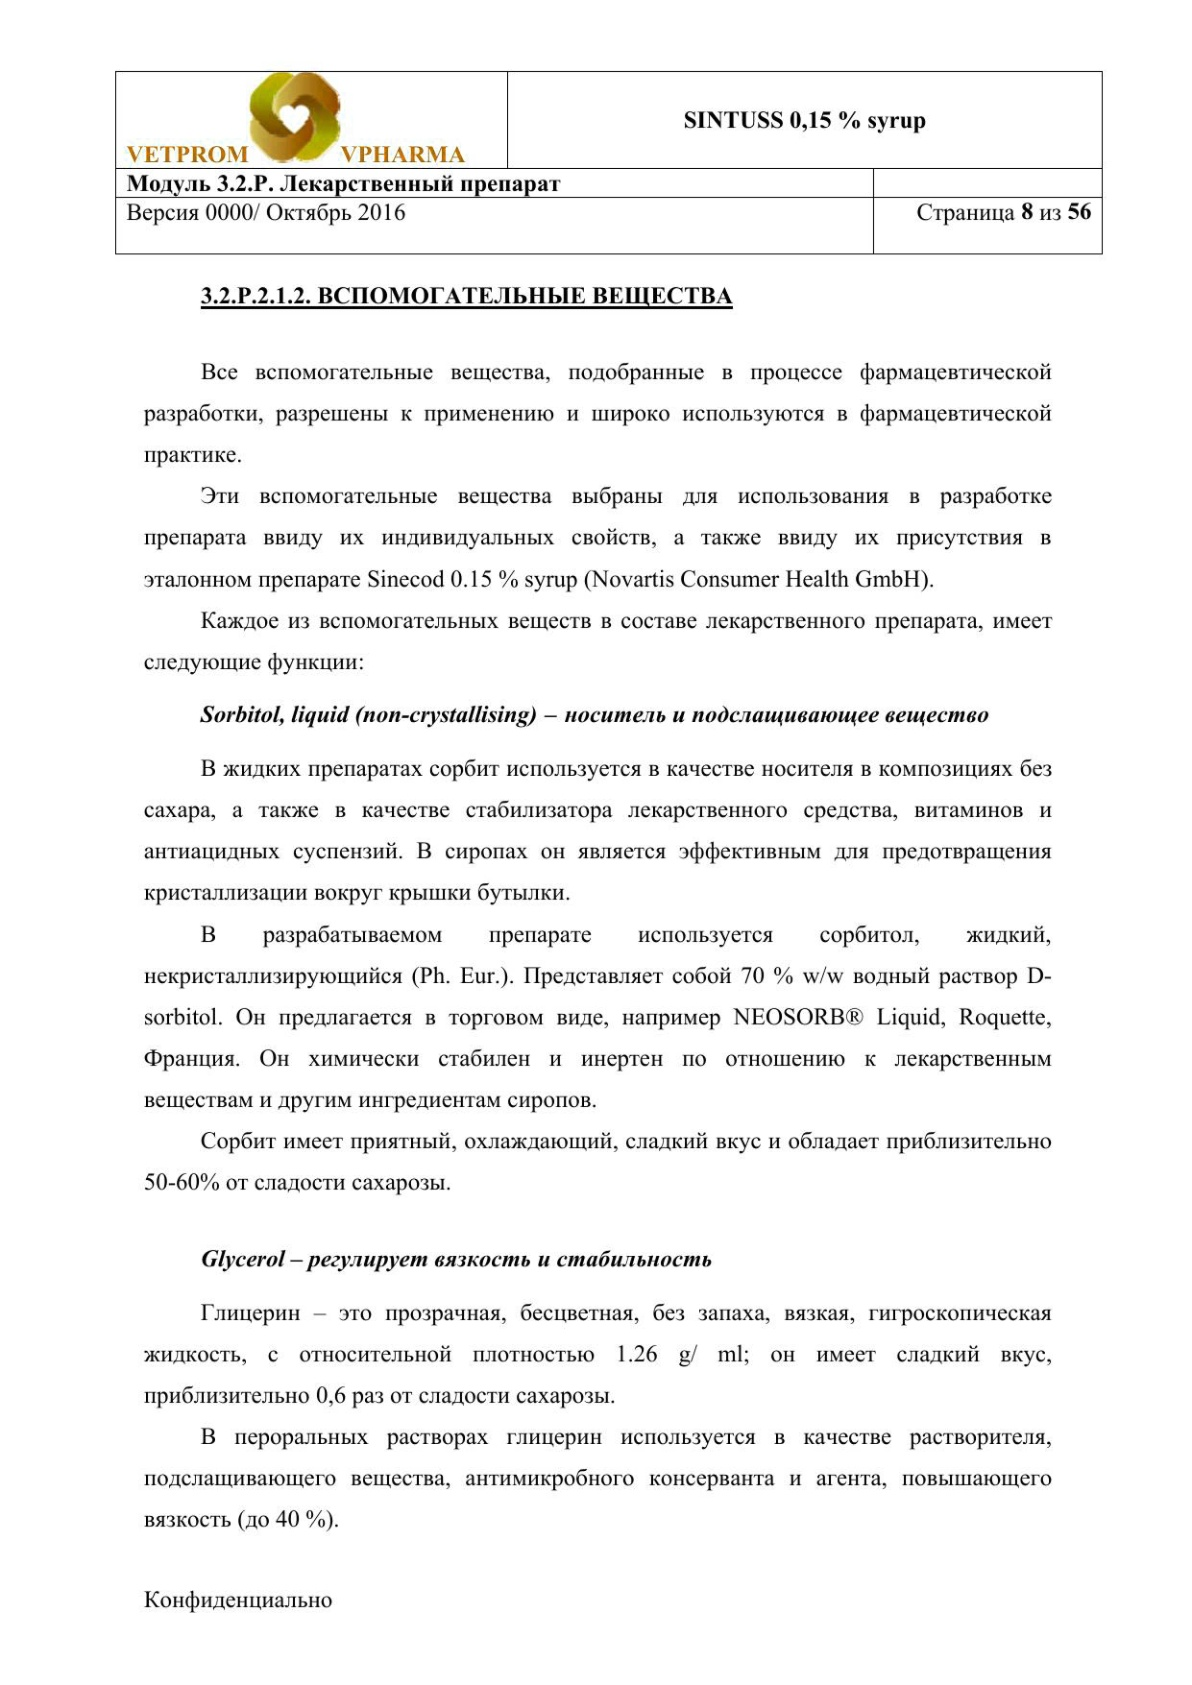merged_cells: (115, 70, 1103, 255)
